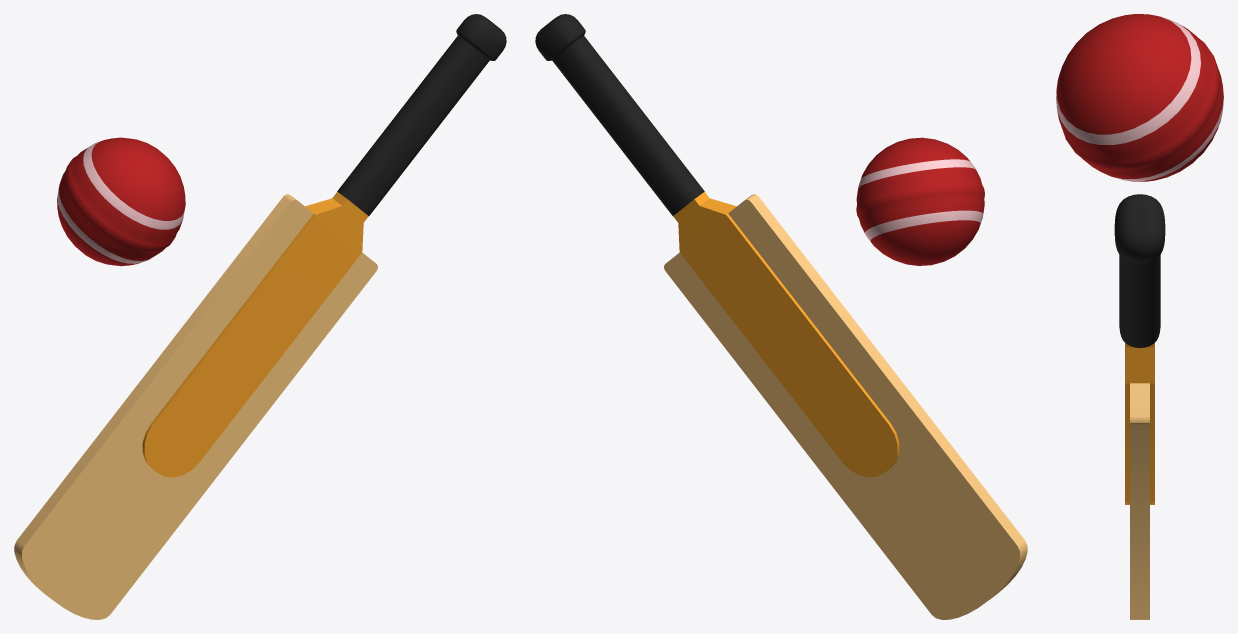
Rendered from cricket_game.glb.
3 views of the same model, side by side, from view 1: azimuth 30°, elevation 25°; view 2: azimuth 150°, elevation 25°; view 3: azimuth 270°, elevation 25° (orthographic). The views are drawn at different scales.
Visible parts, largest first — view 1: Cube.818; view 2: Cube.818; view 3: Cube.818.
Part boxes in pixels (x1,y1,x2,y2): Cube.818: (14,14,506,619); Cube.818: (535,14,1027,619); Cube.818: (1056,14,1223,619).
Size of the model in its own units: 2.24 by 2.24 by 0.5135.
Materials: 1 (1 with a texture image).
